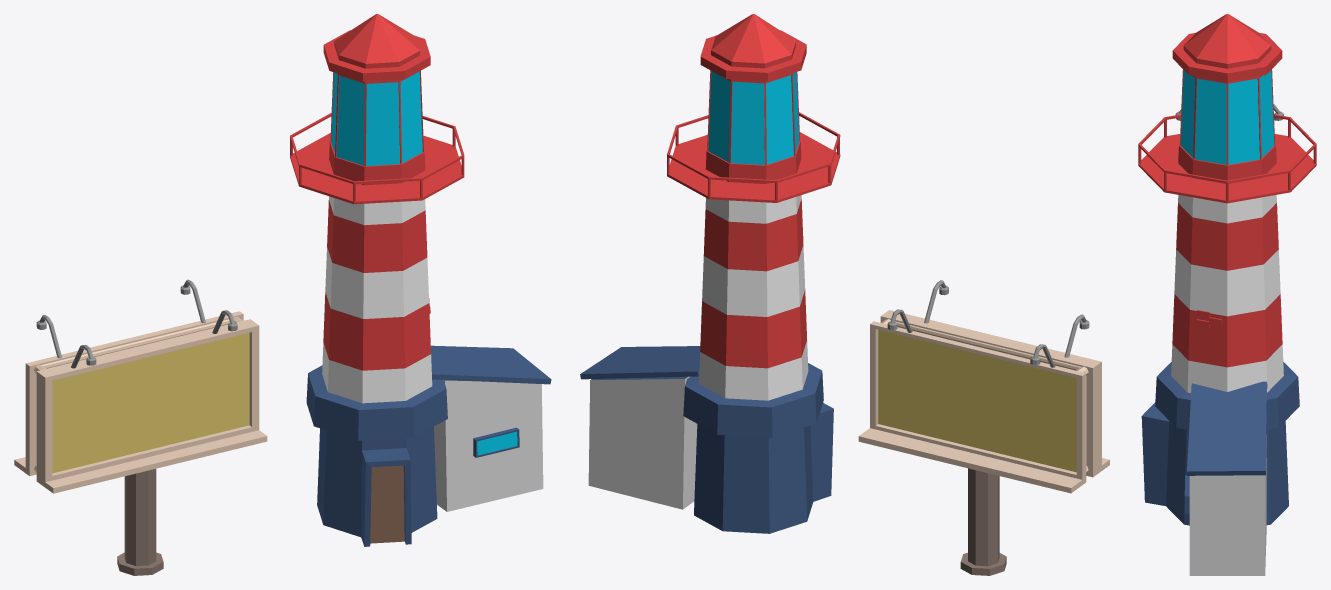
File: Gp1Assets_LightHouse.fbx
3 views of the same model, side by side, from view 1: azimuth 30°, elevation 25°; view 2: azimuth 150°, elevation 25°; view 3: azimuth 270°, elevation 25° (orthographic).
Visible parts, largest first — view 1: LightHouse, Cube.004, Cube.003, Cube.002, Cylinder.002, Plane, Cylinder.003, Cylinder.001, Cylinder.004; view 2: LightHouse, Cube.005, Cube.003, Cube.002, Cylinder.002, Cylinder.003, Plane, Cylinder.004; view 3: LightHouse, Cube.002, Cylinder.002, Plane.
Boxes of the visible parts, x1,y1,x2,y2 form: LightHouse: (290, 14, 464, 546); Cube.004: (52, 332, 249, 473); Cube.003: (14, 311, 267, 493); Cube.002: (434, 379, 543, 511); Cylinder.002: (331, 71, 422, 165); Plane: (431, 345, 551, 384); Cylinder.003: (117, 469, 163, 575); Cylinder.001: (370, 465, 404, 543); Cylinder.004: (36, 279, 237, 368); LightHouse: (667, 14, 840, 533); Cube.005: (878, 329, 1076, 472); Cube.003: (858, 310, 1109, 493); Cube.002: (588, 376, 697, 509); Cylinder.002: (708, 71, 799, 164); Cylinder.003: (960, 468, 1006, 575); Plane: (580, 346, 700, 379); Cylinder.004: (887, 280, 1089, 367); LightHouse: (1138, 14, 1316, 525); Cube.002: (1184, 435, 1266, 575); Cylinder.002: (1180, 70, 1274, 164); Plane: (1187, 381, 1267, 475).
Bounding box in the file's own units: 1502 × 1442 × 473.
